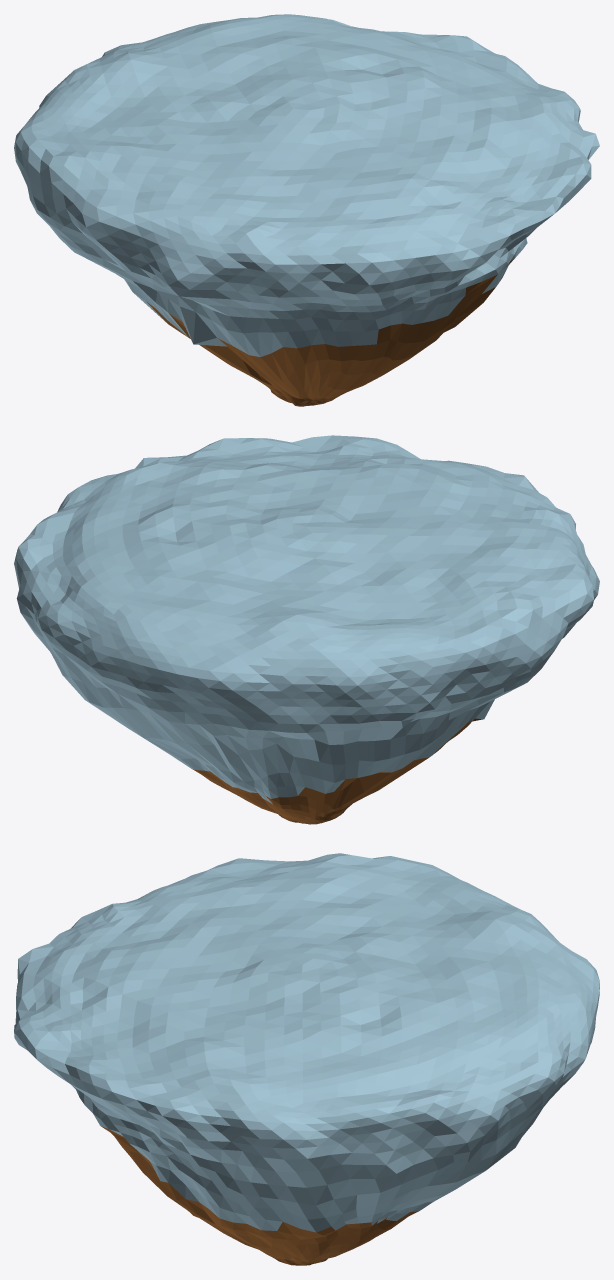
File: island_2.fbx
3 views of the same model, one above another, from view 1: azimuth 30°, elevation 25°; view 2: azimuth 150°, elevation 25°; view 3: azimuth 270°, elevation 25° (orthographic). The views are drawn at different scales.
Parts seen in each view (by area): view 1: Icosphere.061; view 2: Icosphere.061; view 3: Icosphere.061.
Boxes of the visible parts, box(x1,y1,x2,y2) form: Icosphere.061: box(14, 14, 599, 406); Icosphere.061: box(14, 435, 599, 824); Icosphere.061: box(14, 853, 599, 1265).
Size of the model in its own units: 4853 by 2680 by 4752.
